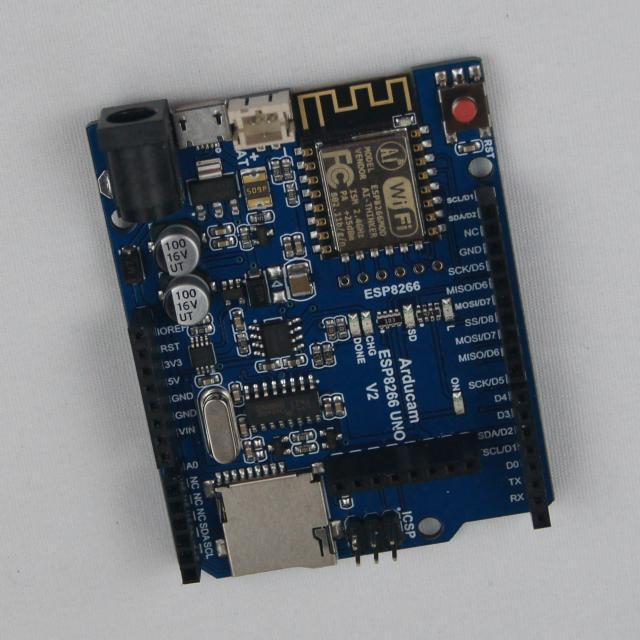Arduino Uno Camera Shield: (87, 59, 554, 583)
